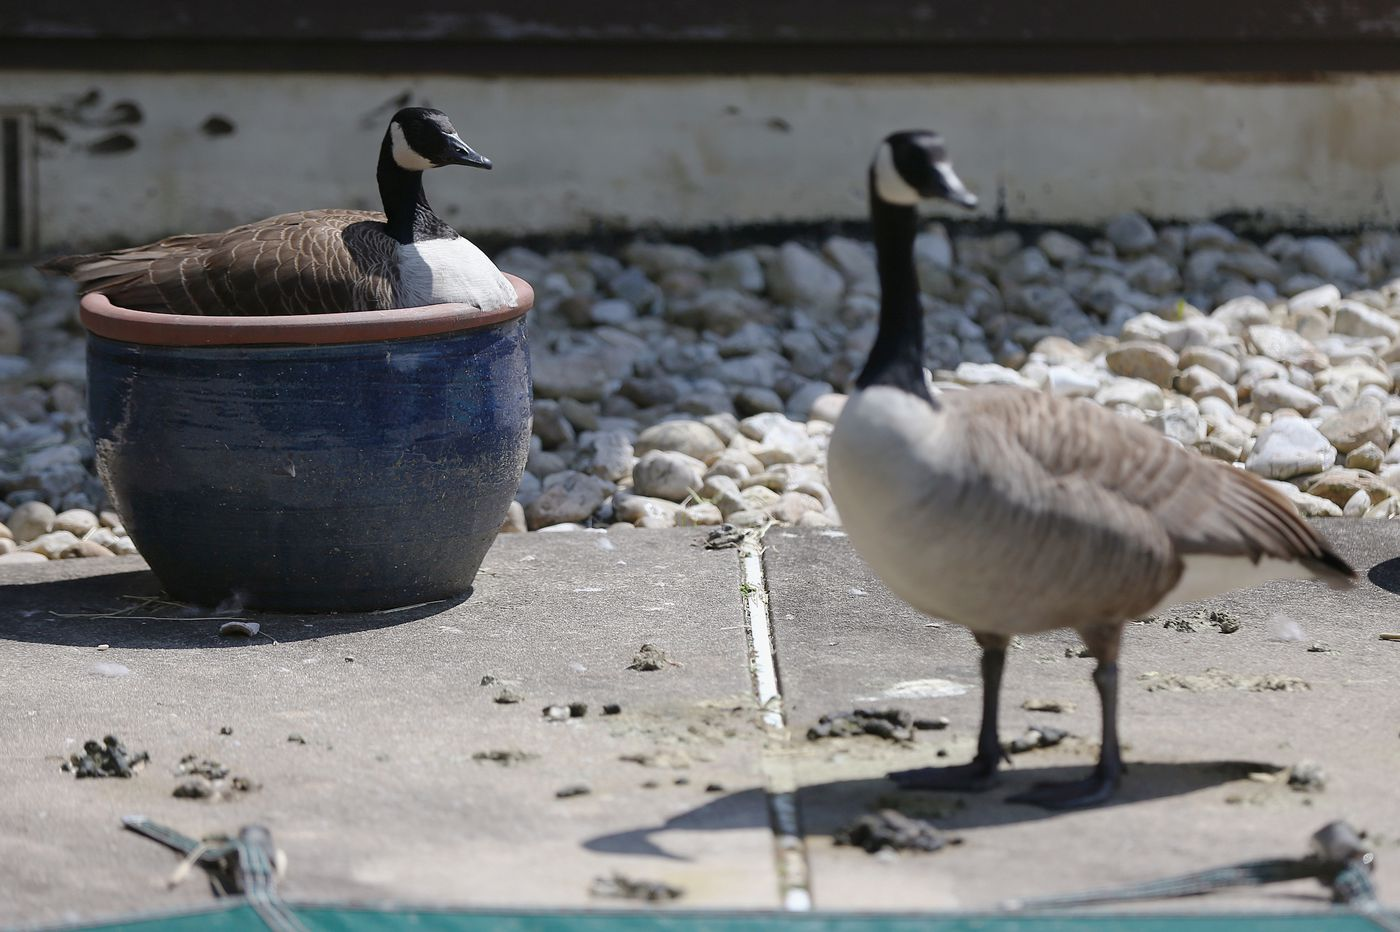goose: (819, 121, 1336, 810), (49, 97, 538, 344)
